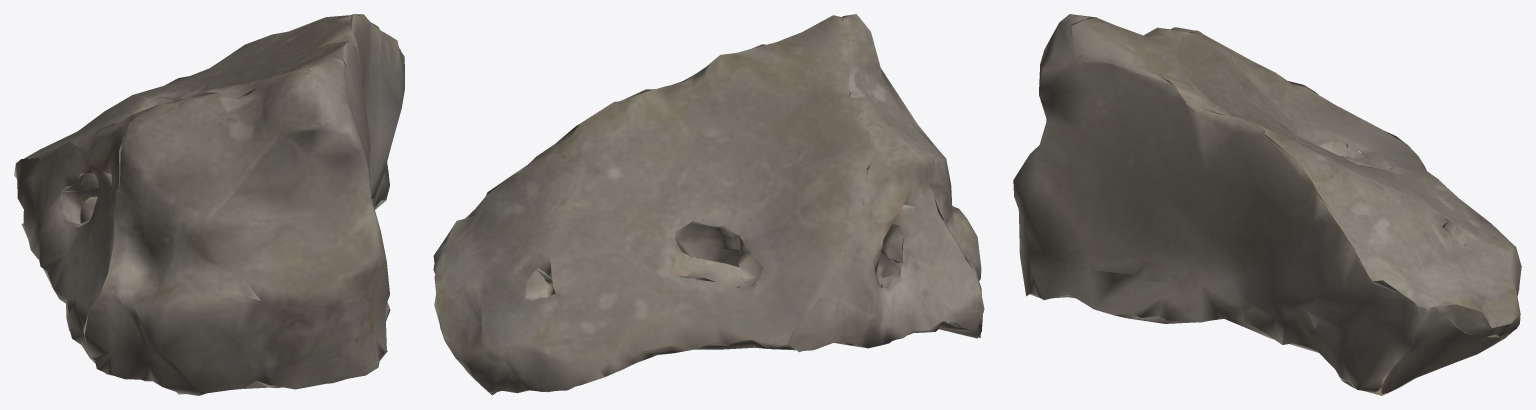
File: rock_d.glb
3 renders of one model, left to right at view 1: azimuth 30°, elevation 25°; view 2: azimuth 150°, elevation 25°; view 3: azimuth 270°, elevation 25°, orthographic. The views are drawn at different scales.
Parts seen in each view (by area): view 1: rock_d; view 2: rock_d; view 3: rock_d.
Part boxes in pixels (<box>): rock_d: <box>14,14,404,395</box>; rock_d: <box>433,14,984,395</box>; rock_d: <box>1013,14,1521,395</box>.
Bounding box in the file's own units: 1.56 × 0.9958 × 1.66.
1 material, 1 textured.
